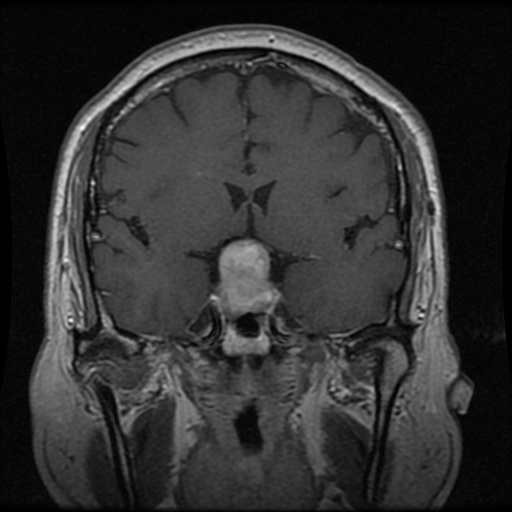pituitary: (219, 237, 271, 355)
